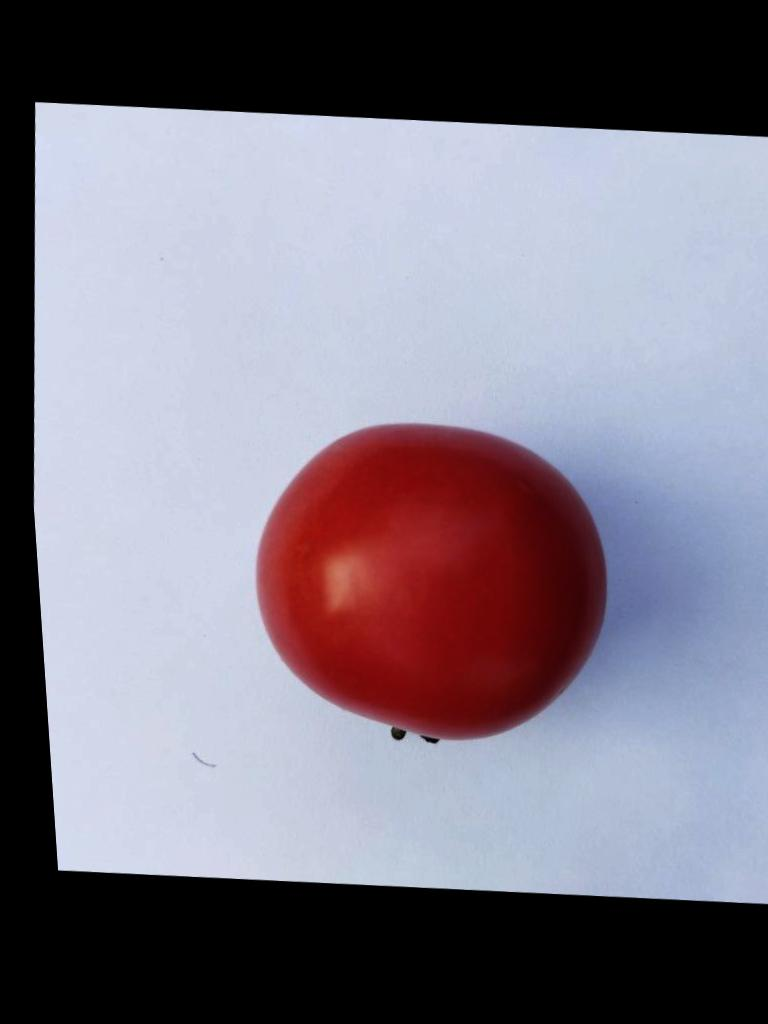tomato: (255, 425, 603, 740)
